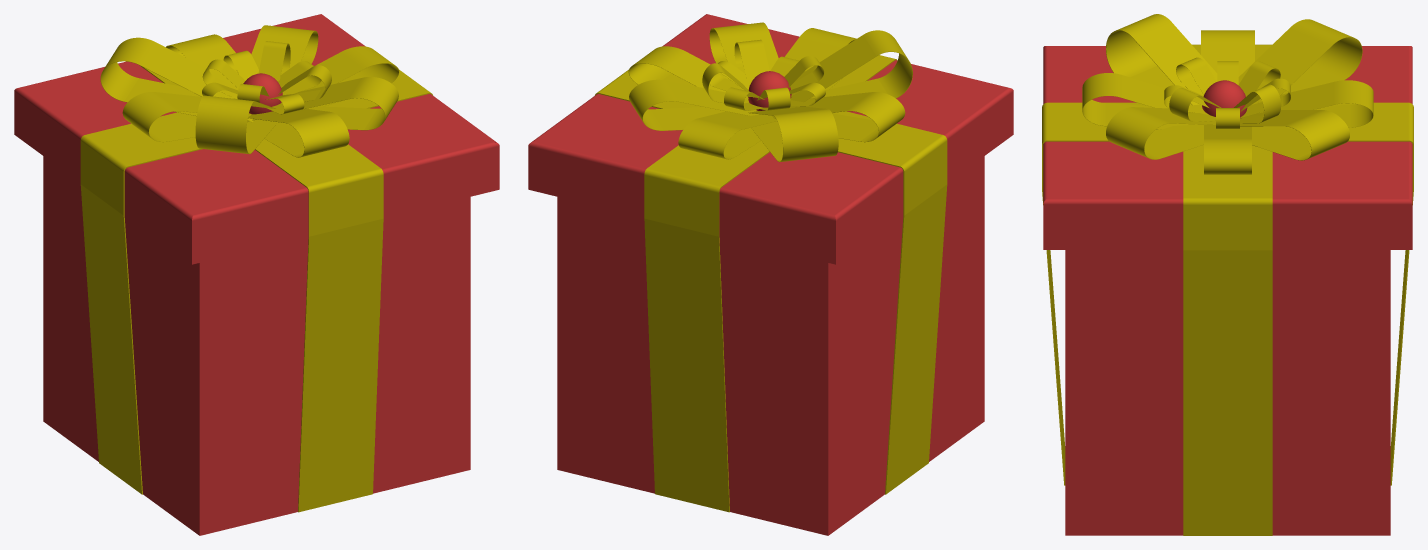
3 views of the same model, side by side, from view 1: azimuth 30°, elevation 25°; view 2: azimuth 150°, elevation 25°; view 3: azimuth 270°, elevation 25° (orthographic). The views are drawn at different scales.
Visible parts, largest first — view 1: Group_001, Group_002, Cinta_004, Cinta_002, Group_009, Group_007, Group_018, Group_003, Group_006, Group_005, Group_004, Group_008 (+7 smaller); view 2: Group_001, Group_002, Cinta_001, Cinta_002, Group_007, Group_009, Group_004, Group_008, Group_006, Group_005, Group_003, Group_018 (+9 smaller); view 3: Group_001, Group_002, Cinta_003, Group_009, Group_007, Group_004, Group_003, Cinta_004, Cinta_001, Group_018, Group_008, Group_005 (+10 smaller).
Boxes of the visible parts, <box> form: Group_001: <box>43,156,470,535</box>; Group_002: <box>14,14,499,264</box>; Cinta_004: <box>255,138,383,512</box>; Cinta_002: <box>80,112,202,494</box>; Group_009: <box>100,37,253,122</box>; Group_007: <box>195,95,276,154</box>; Group_018: <box>248,108,349,157</box>; Group_003: <box>247,77,398,130</box>; Group_006: <box>122,92,251,142</box>; Group_005: <box>265,46,399,120</box>; Group_004: <box>251,25,318,69</box>; Group_008: <box>166,34,235,77</box>; Group_001: <box>557,156,984,535</box>; Group_002: <box>528,14,1013,264</box>; Cinta_001: <box>644,141,769,512</box>; Cinta_002: <box>833,111,947,494</box>; Group_007: <box>789,30,912,113</box>; Group_009: <box>748,106,838,161</box>; Group_004: <box>629,79,759,130</box>; Group_008: <box>678,111,776,159</box>; Group_006: <box>772,92,905,142</box>; Group_005: <box>628,46,745,98</box>; Group_003: <box>709,22,778,99</box>; Group_018: <box>785,28,856,89</box>; Group_001: <box>1065,250,1390,535</box>; Group_002: <box>1043,46,1412,249</box>; Cinta_003: <box>1183,145,1272,535</box>; Group_009: <box>1238,19,1362,112</box>; Group_007: <box>1106,14,1217,105</box>; Group_004: <box>1240,110,1349,160</box>; Group_003: <box>1106,107,1215,159</box>; Cinta_004: <box>1042,102,1160,485</box>; Cinta_001: <box>1297,102,1413,485</box>; Group_018: <box>1082,73,1196,129</box>; Group_008: <box>1280,80,1373,130</box>; Group_005: <box>1204,124,1251,174</box>.
Bounding box in the file's own units: 13.5 × 16.33 × 13.5.
